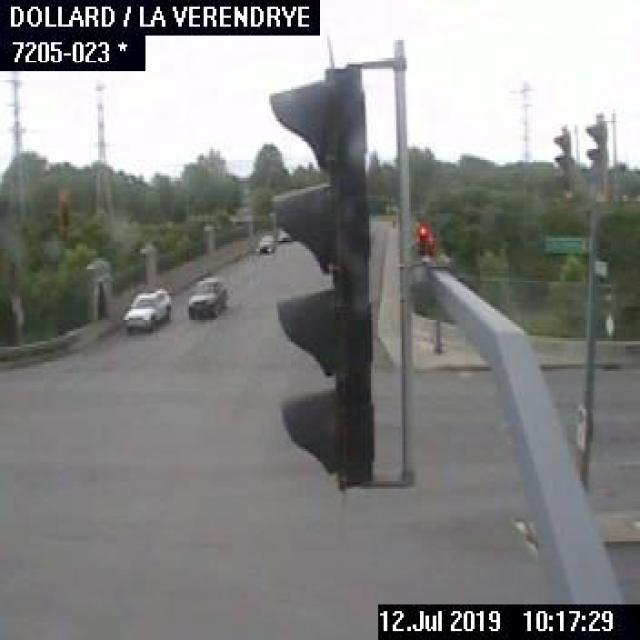vehicle: (122, 285, 169, 331), (185, 274, 228, 316), (253, 229, 273, 253)
